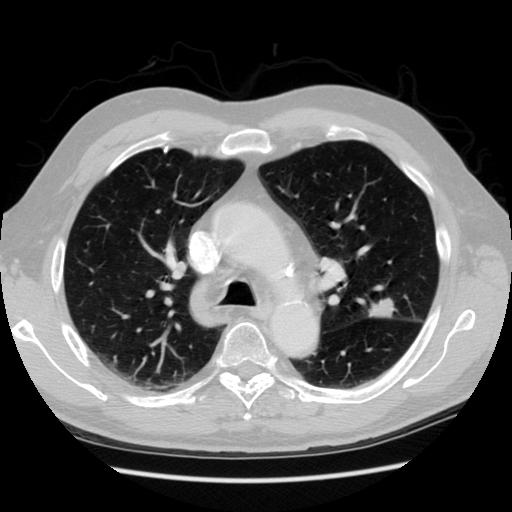nodule: (370, 296, 396, 322)
